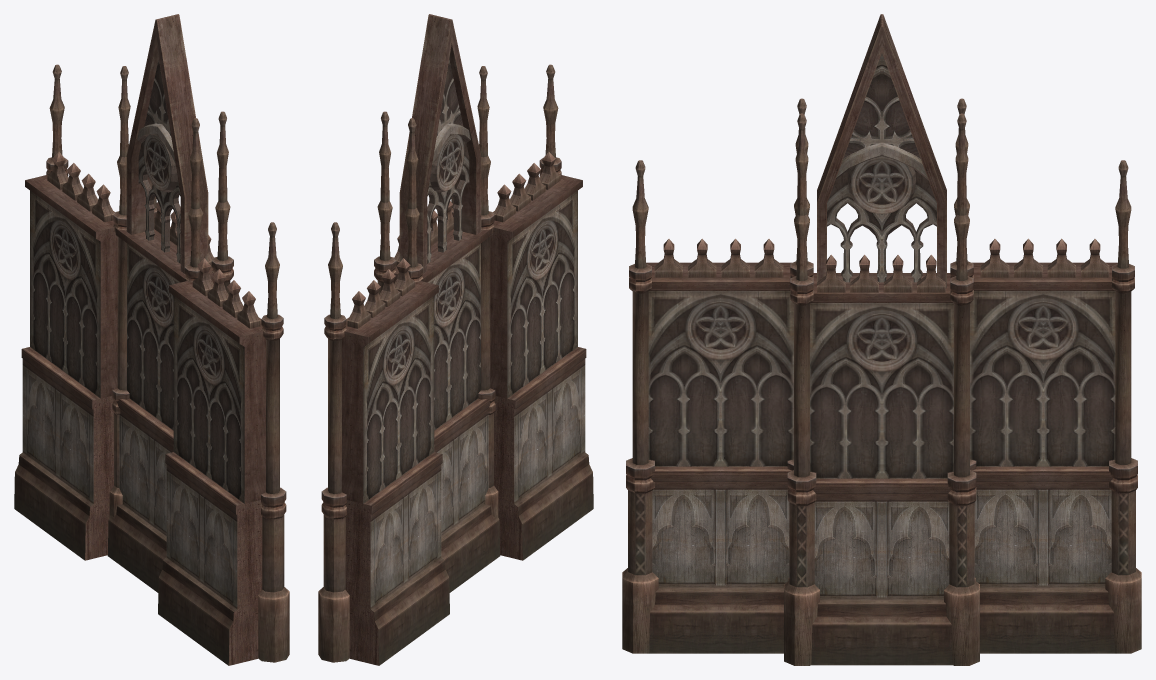
Rendered from bg_lut_lucastle_churchinprop01_sm_ysi.FBX.
The picture shows the model from 3 angles, left to right: view 1: azimuth 30°, elevation 25°; view 2: azimuth 150°, elevation 25°; view 3: azimuth 270°, elevation 25°; orthographic projection. The views are drawn at different scales.
Parts seen in each view (by area): view 1: bg_lut_lucastle_churchinprop01_sm_ysi; view 2: bg_lut_lucastle_churchinprop01_sm_ysi; view 3: bg_lut_lucastle_churchinprop01_sm_ysi.
Part boxes in pixels (x1=…): bg_lut_lucastle_churchinprop01_sm_ysi: x1=14, y1=14, x2=289, y2=665; bg_lut_lucastle_churchinprop01_sm_ysi: x1=318, y1=14, x2=593, y2=665; bg_lut_lucastle_churchinprop01_sm_ysi: x1=622, y1=14, x2=1141, y2=665.
Size of the model in its own units: 108 by 725 by 544.
